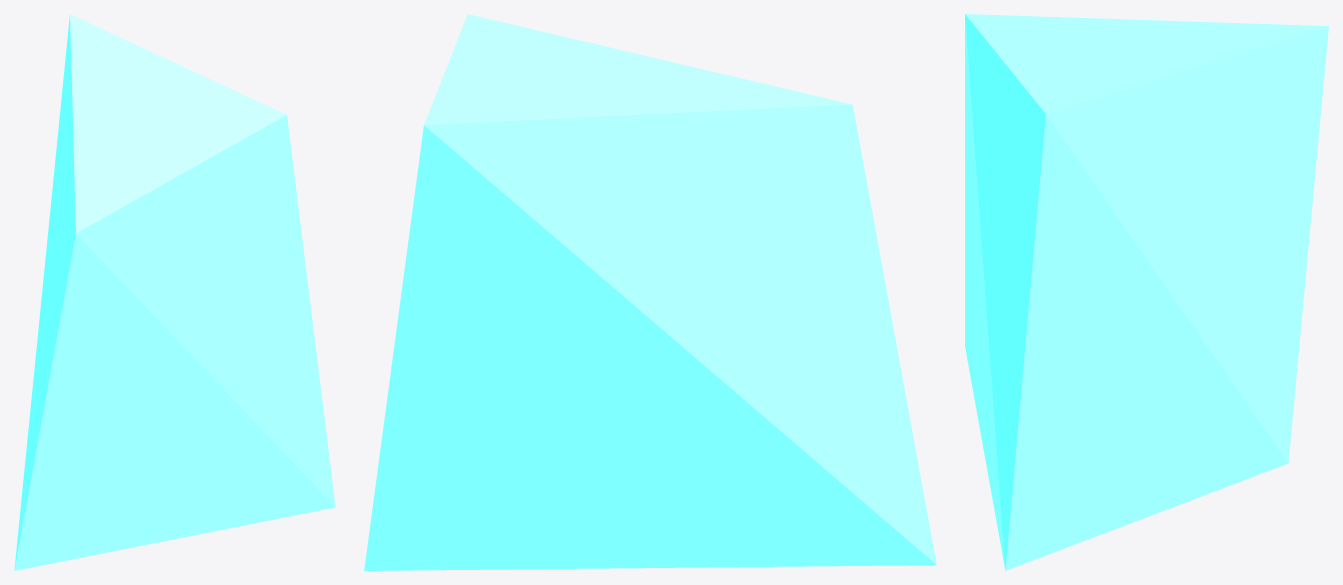
Rendered from Mesh_Voxel_04.glb.
3 renders of one model, left to right at view 1: azimuth 30°, elevation 25°; view 2: azimuth 150°, elevation 25°; view 3: azimuth 270°, elevation 25°, orthographic. The views are drawn at different scales.
Parts seen in each view (by area): view 1: Mesh_Voxel_04; view 2: Mesh_Voxel_04; view 3: Mesh_Voxel_04.
Part boxes in pixels (box(x1,y1,x2,y2)): Mesh_Voxel_04: box(14, 14, 335, 570); Mesh_Voxel_04: box(364, 14, 936, 570); Mesh_Voxel_04: box(965, 14, 1328, 570).
Bounding box in the file's own units: 0.11 × 0.13 × 0.09.
